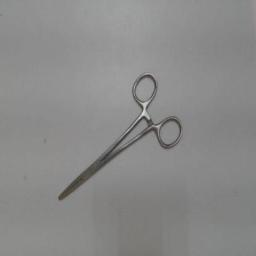Mayo Needle Holder: (52, 67, 190, 209)
